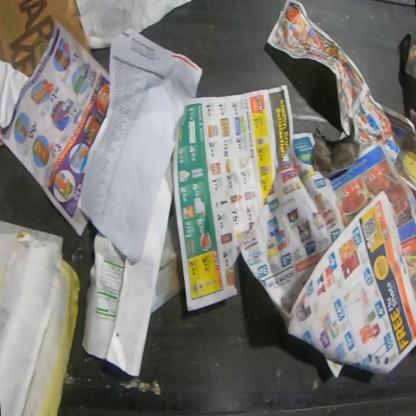cardboard: (0, 0, 93, 80)
